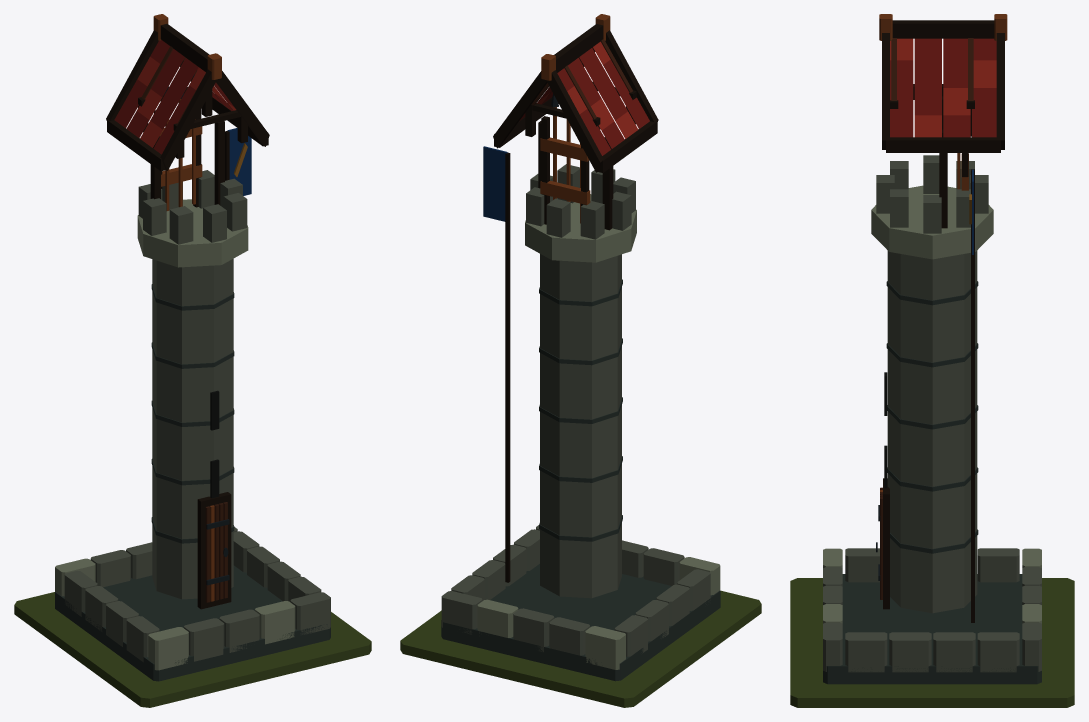
The model's file is archer_tower_t4.glb.
The picture shows the model from 3 angles, left to right: view 1: azimuth 30°, elevation 25°; view 2: azimuth 150°, elevation 25°; view 3: azimuth 270°, elevation 25°; orthographic projection. The views are drawn at different scales.
Visible parts, largest first — view 1: MMR | archer_tower | T04 Architecture.001, MMR | archer_tower | Tier 04 Ground.001, MMR | archer_tower | T04 Roof Supports.001; view 2: MMR | archer_tower | T04 Architecture.001, MMR | archer_tower | Tier 04 Ground.001, MMR | archer_tower | T04 Roof Supports.001; view 3: MMR | archer_tower | T04 Architecture.001, MMR | archer_tower | Tier 04 Ground.001, MMR | archer_tower | T04 Roof Supports.001.
Part boxes in pixels (x1=…): MMR | archer_tower | T04 Architecture.001: x1=55, y1=14, x2=330, y2=681; MMR | archer_tower | Tier 04 Ground.001: x1=14, y1=592, x2=371, y2=707; MMR | archer_tower | T04 Roof Supports.001: x1=138, y1=46, x2=247, y2=158; MMR | archer_tower | T04 Architecture.001: x1=441, y1=14, x2=720, y2=681; MMR | archer_tower | Tier 04 Ground.001: x1=400, y1=590, x2=761, y2=707; MMR | archer_tower | T04 Roof Supports.001: x1=525, y1=39, x2=636, y2=136; MMR | archer_tower | T04 Architecture.001: x1=823, y1=14, x2=1041, y2=684; MMR | archer_tower | Tier 04 Ground.001: x1=790, y1=578, x2=1074, y2=707; MMR | archer_tower | T04 Roof Supports.001: x1=890, y1=38, x2=974, y2=136.
Size of the model in its own units: 1.3 by 3.18 by 1.3.
Materials: 1 (1 with a texture image).
